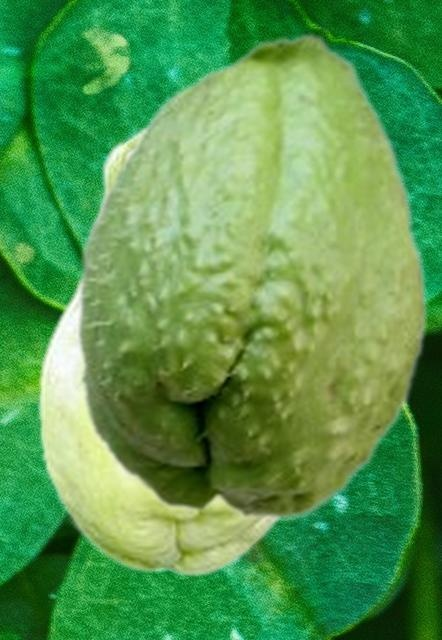sayote: (74, 30, 430, 522), (36, 120, 282, 577)
